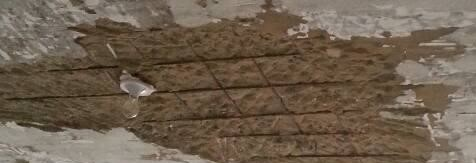Exposed reinforcement: (4, 81, 345, 102), (186, 39, 256, 135), (240, 39, 305, 136), (128, 39, 201, 118), (46, 52, 301, 73), (141, 108, 333, 124), (220, 131, 350, 139), (283, 152, 401, 157)
Spalling: (1, 1, 469, 163)
